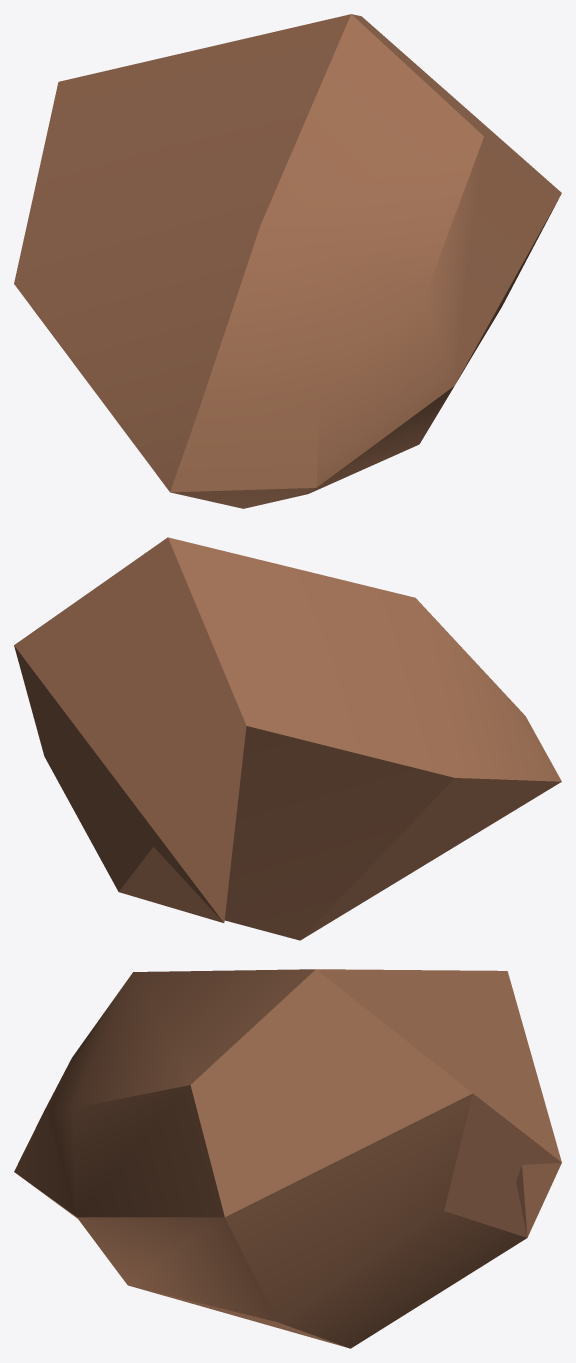
File: rock_small_1.fbx
The picture shows the model from 3 angles, top to bottom: view 1: azimuth 30°, elevation 25°; view 2: azimuth 150°, elevation 25°; view 3: azimuth 270°, elevation 25°; orthographic projection. The views are drawn at different scales.
Parts seen in each view (by area): view 1: Retopo_Rock generator addon.022; view 2: Retopo_Rock generator addon.022; view 3: Retopo_Rock generator addon.022.
Boxes of the visible parts, x1=… form: Retopo_Rock generator addon.022: x1=14, y1=14, x2=561, y2=508; Retopo_Rock generator addon.022: x1=14, y1=537, x2=561, y2=940; Retopo_Rock generator addon.022: x1=14, y1=969, x2=561, y2=1348.
Size of the model in its own units: 9.59 by 7.41 by 9.72.
